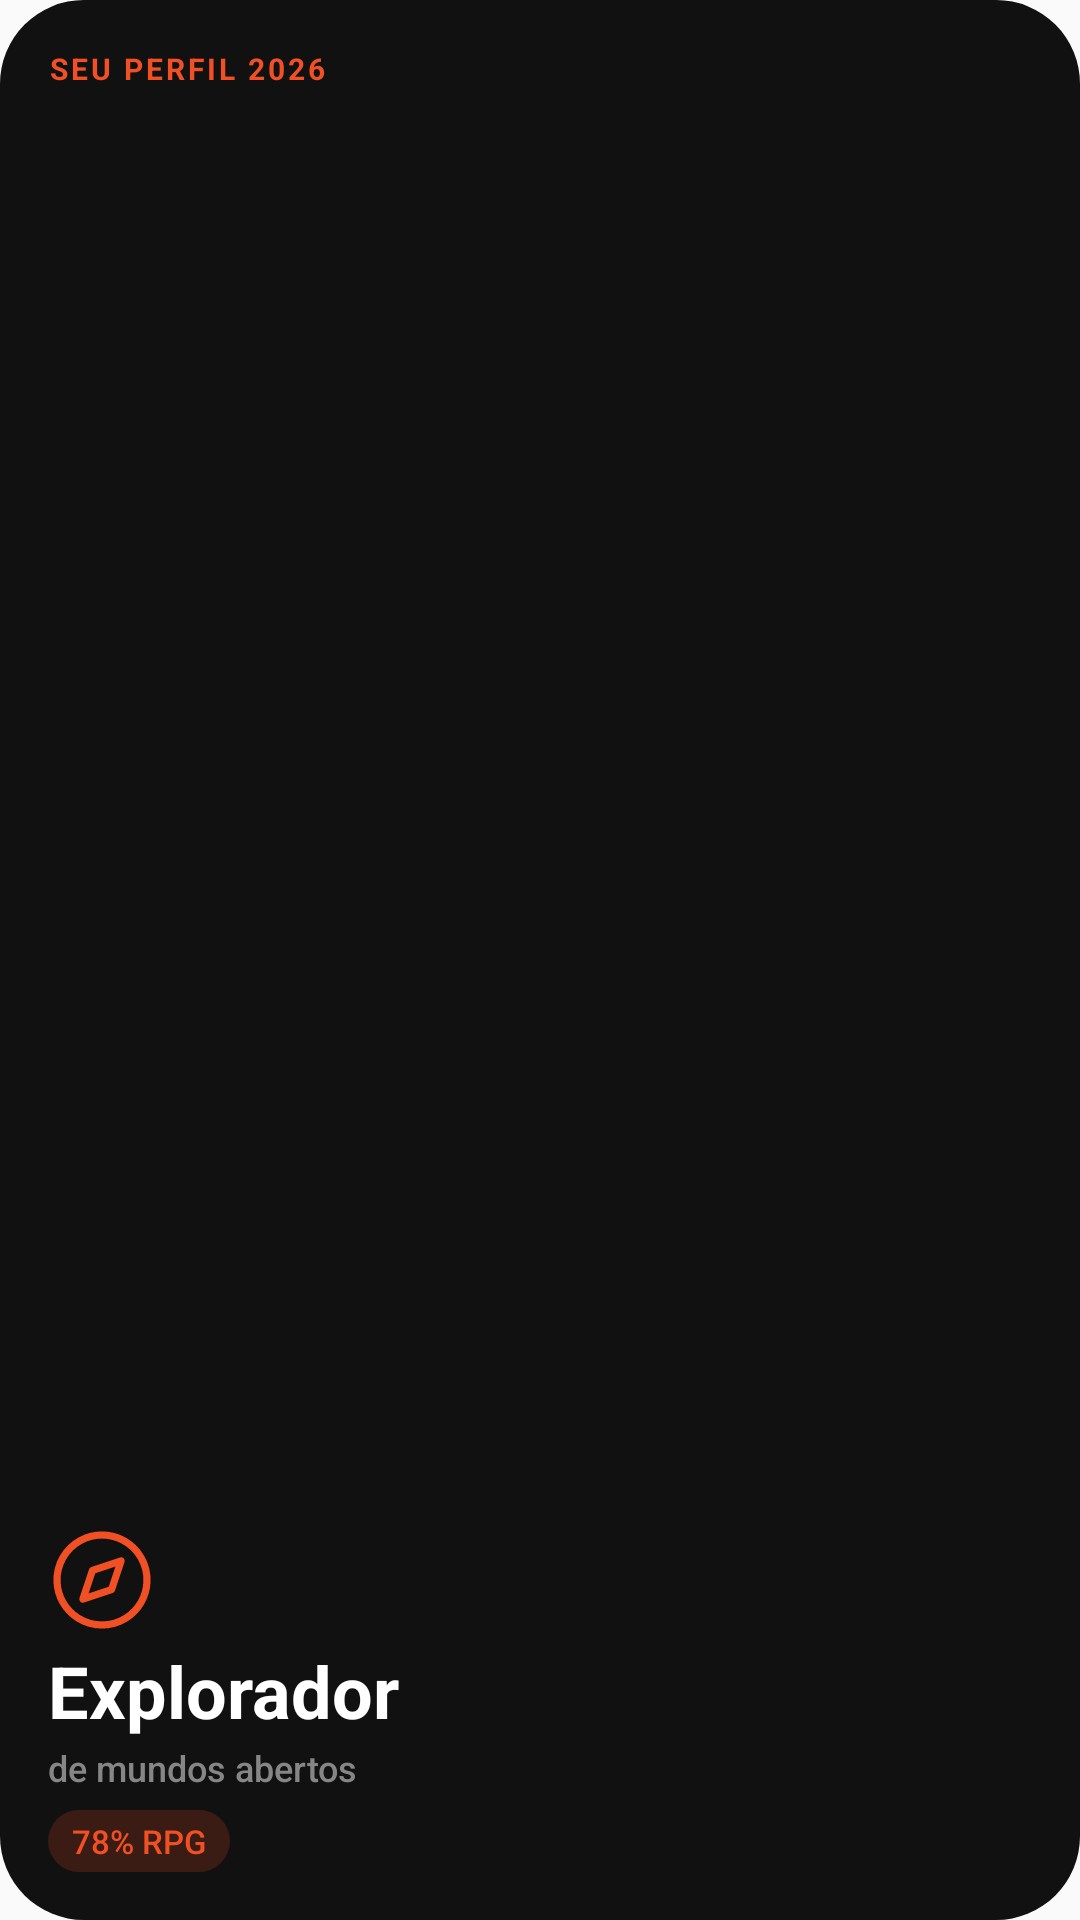

Icons on this 1080x1920 Android screen, each with the point to tap as (x=x, y=y):
compass: (x=102, y=1580)
